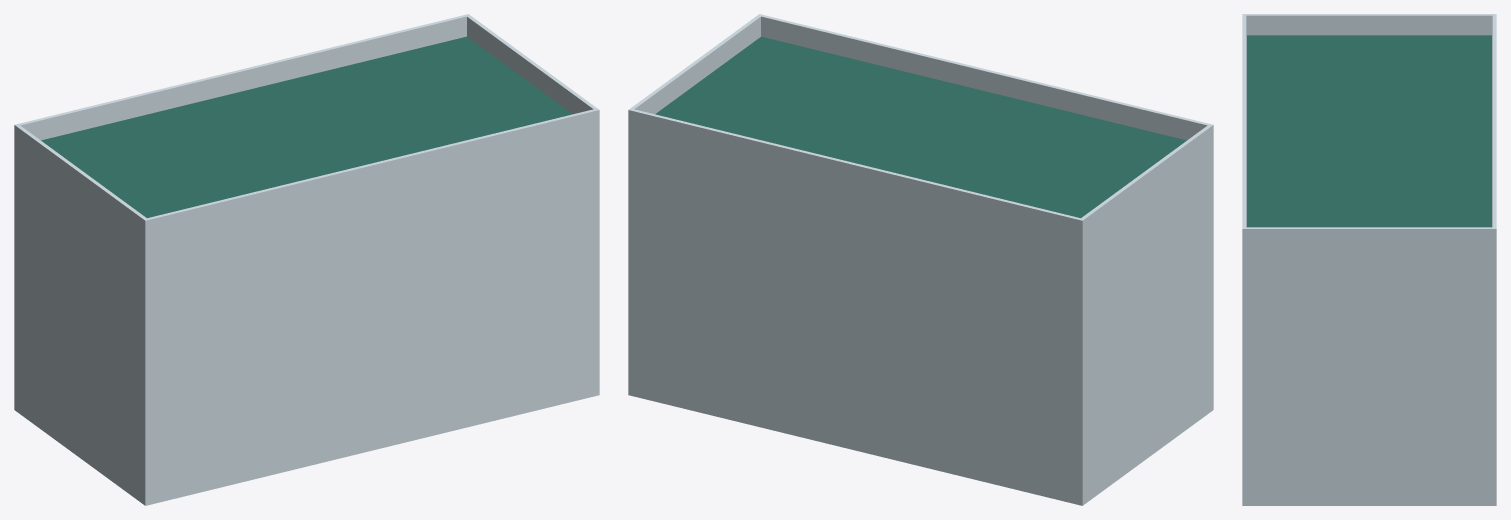
The model's file is tk_v0_tank60.glb.
3 views of the same model, side by side, from view 1: azimuth 30°, elevation 25°; view 2: azimuth 150°, elevation 25°; view 3: azimuth 270°, elevation 25° (orthographic). The views are drawn at different scales.
Visible parts, largest first — view 1: tk_v0_tank60_glass, tk_v0_water_proxy; view 2: tk_v0_tank60_glass, tk_v0_water_proxy; view 3: tk_v0_tank60_glass, tk_v0_water_proxy.
Boxes of the visible parts, x1,y1,x2,y2 form: tk_v0_tank60_glass: [14, 14, 599, 505]; tk_v0_water_proxy: [41, 36, 572, 218]; tk_v0_tank60_glass: [628, 14, 1213, 505]; tk_v0_water_proxy: [655, 36, 1186, 218]; tk_v0_tank60_glass: [1242, 14, 1496, 505]; tk_v0_water_proxy: [1247, 35, 1491, 227].
Bounding box in the file's own units: 0.6 × 0.36 × 0.3.
Materials: 2 (2 with a texture image).
